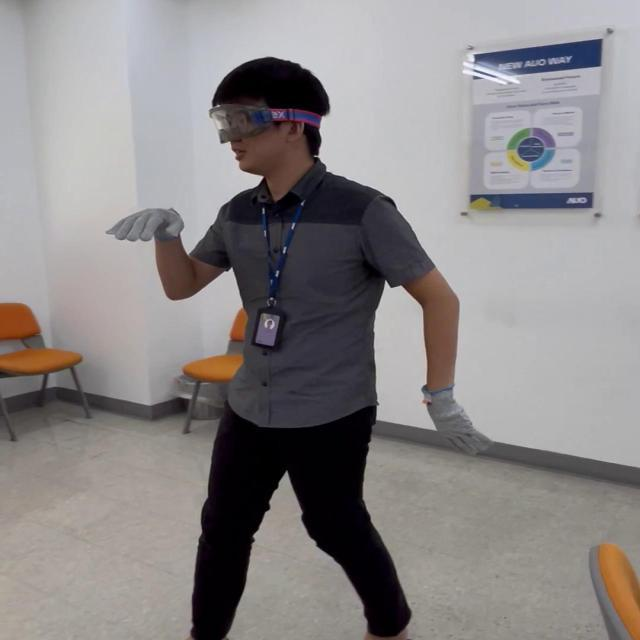gloved_hand: (418, 385, 487, 452), (108, 198, 185, 246)
